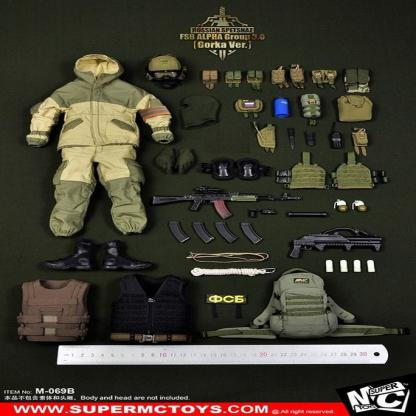Grenade: (351, 198, 369, 213), (332, 197, 349, 212)
Gun: (150, 185, 303, 221), (288, 226, 384, 260)
Knife: (286, 127, 298, 150)
